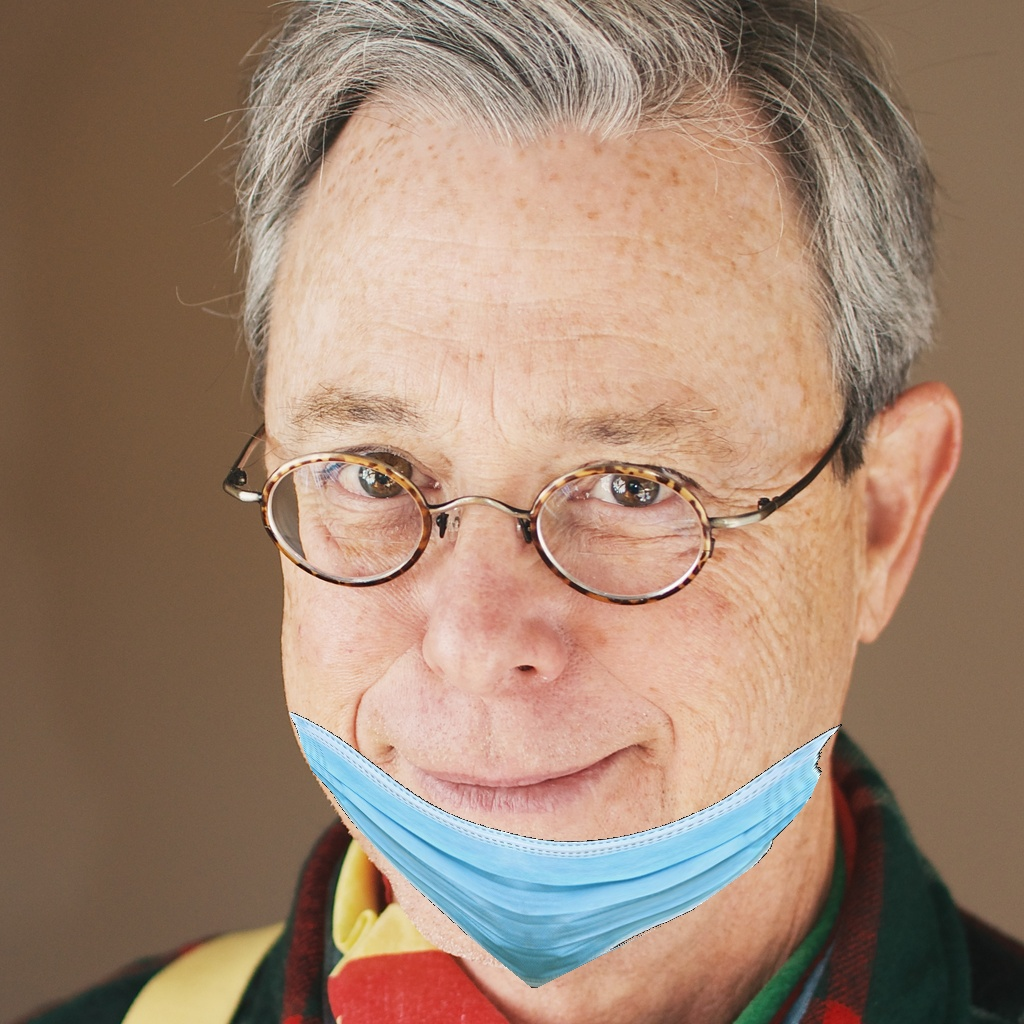mascarilla_mal_puesta: (269, 383, 862, 963)
